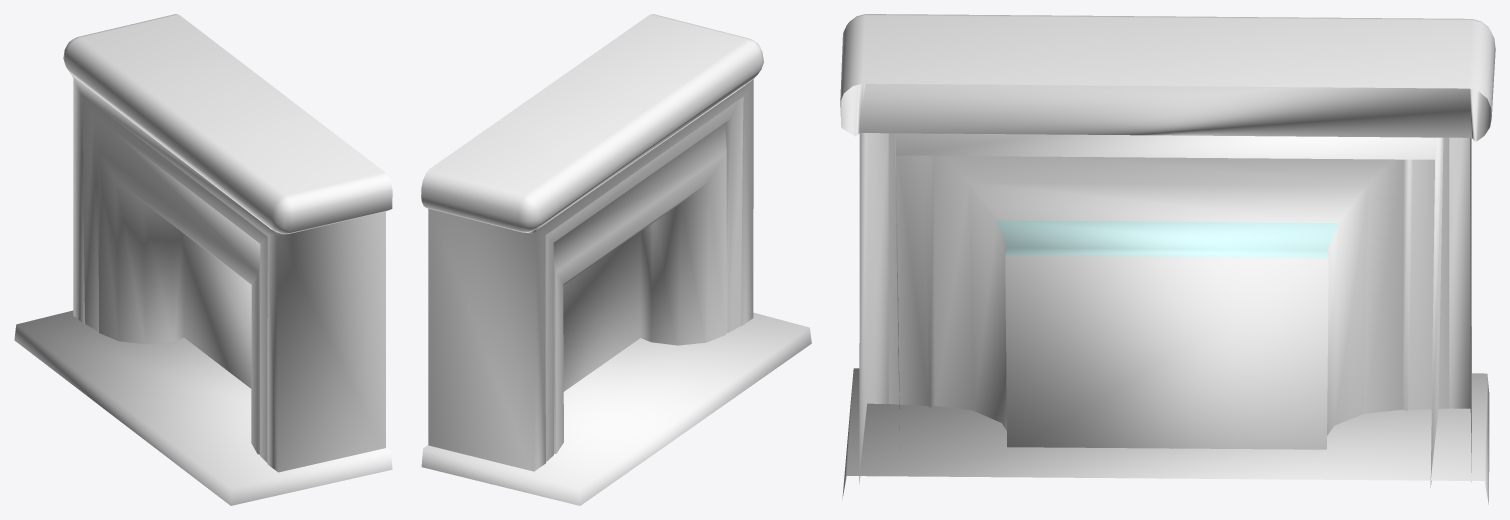
Rendered from Fireplace_Traditional 2.fbx.
3 views of the same model, side by side, from view 1: azimuth 30°, elevation 25°; view 2: azimuth 150°, elevation 25°; view 3: azimuth 270°, elevation 25° (orthographic). The views are drawn at different scales.
Visible parts, largest first — view 1: Fireplace_Traditional .001; view 2: Fireplace_Traditional .001; view 3: Fireplace_Traditional .001.
Boxes of the visible parts, x1,y1,x2,y2 form: Fireplace_Traditional .001: [14, 14, 392, 505]; Fireplace_Traditional .001: [421, 14, 811, 505]; Fireplace_Traditional .001: [840, 14, 1495, 504].
Bounding box in the file's own units: 463 × 780 × 1111.
